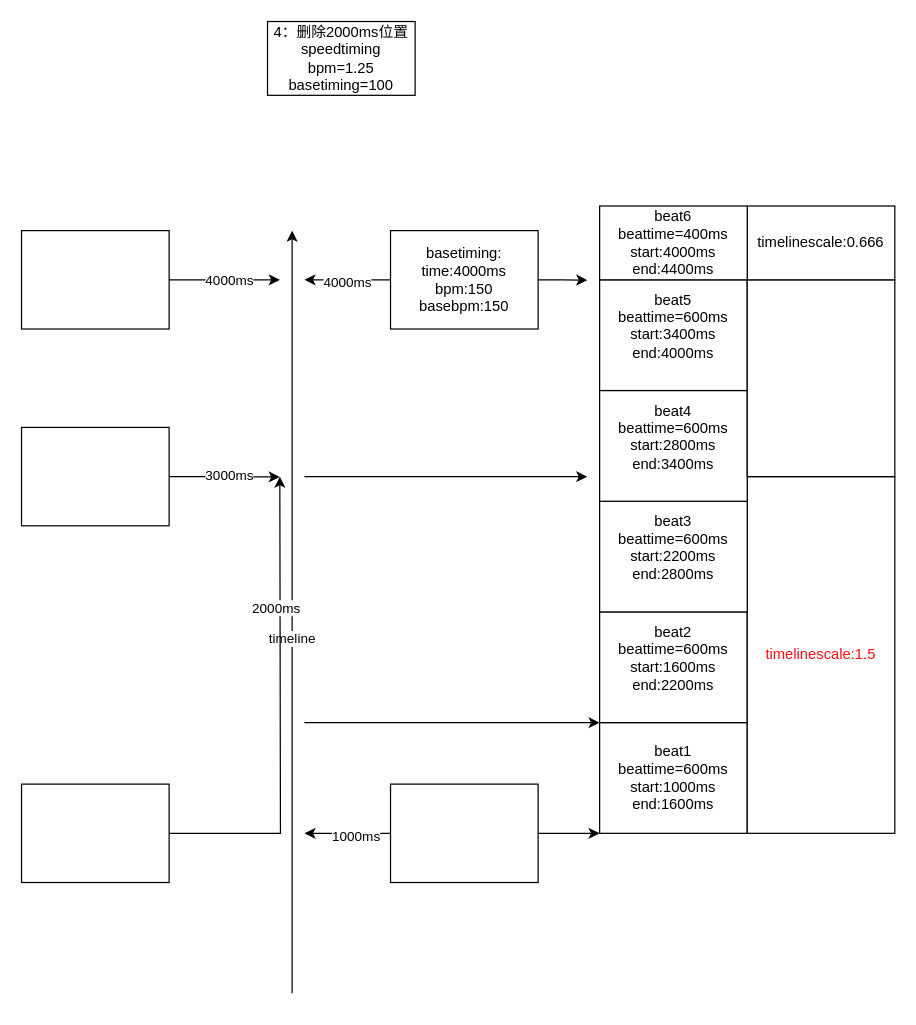
The diagram is 916 pixels wide and 1025 high, and some of its shapes have lost their labels. The shapes that lost their labels are listed below. From the top down, each one's box as (x1, y1, x2, y2) in pixels, then its label:
(20, 229, 169, 329): speedtiming: time:4000ms bpm:0.666 basebpm:150
(746, 279, 895, 477): timelinescale:1.0
(20, 426, 169, 526): speedtiming: time:3000ms bpm:1.0 basebpm:100
(20, 783, 169, 883): speedtiming: time:1000ms bpm:1.50 basebpm:100
(389, 783, 538, 883): basetiming: time:1000ms bpm:100 basebpm:100
